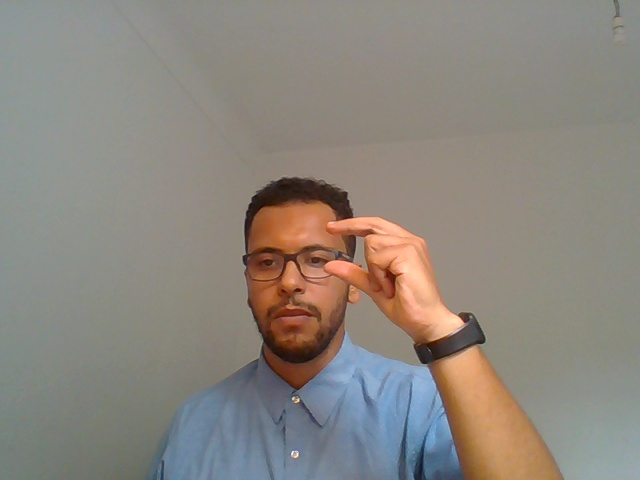no: (321, 188, 477, 386)
